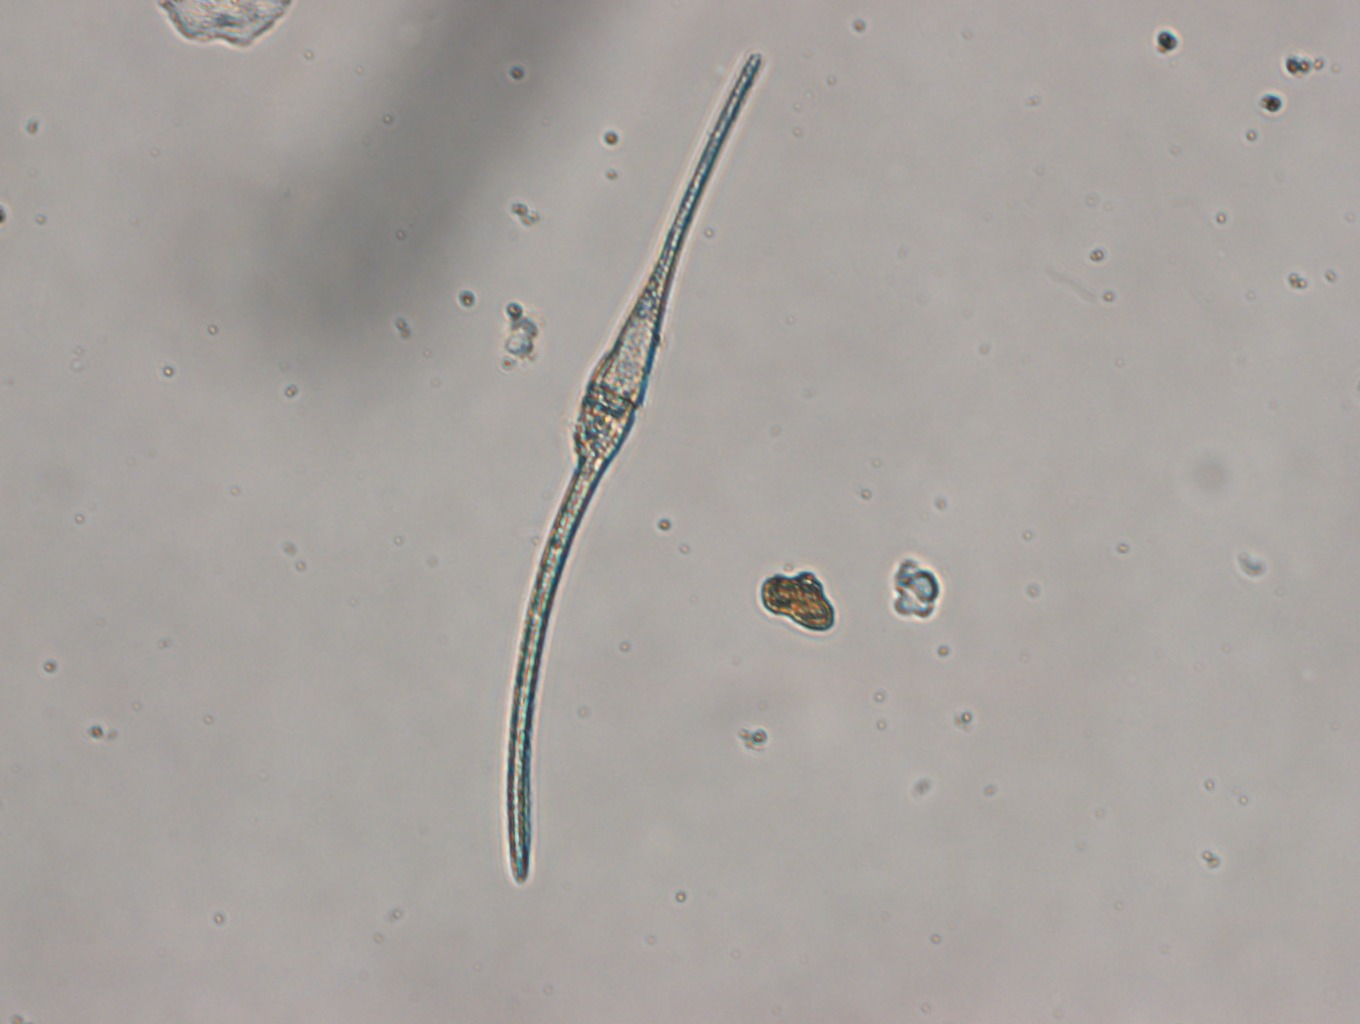ceratium fusus: (505, 46, 763, 883)
